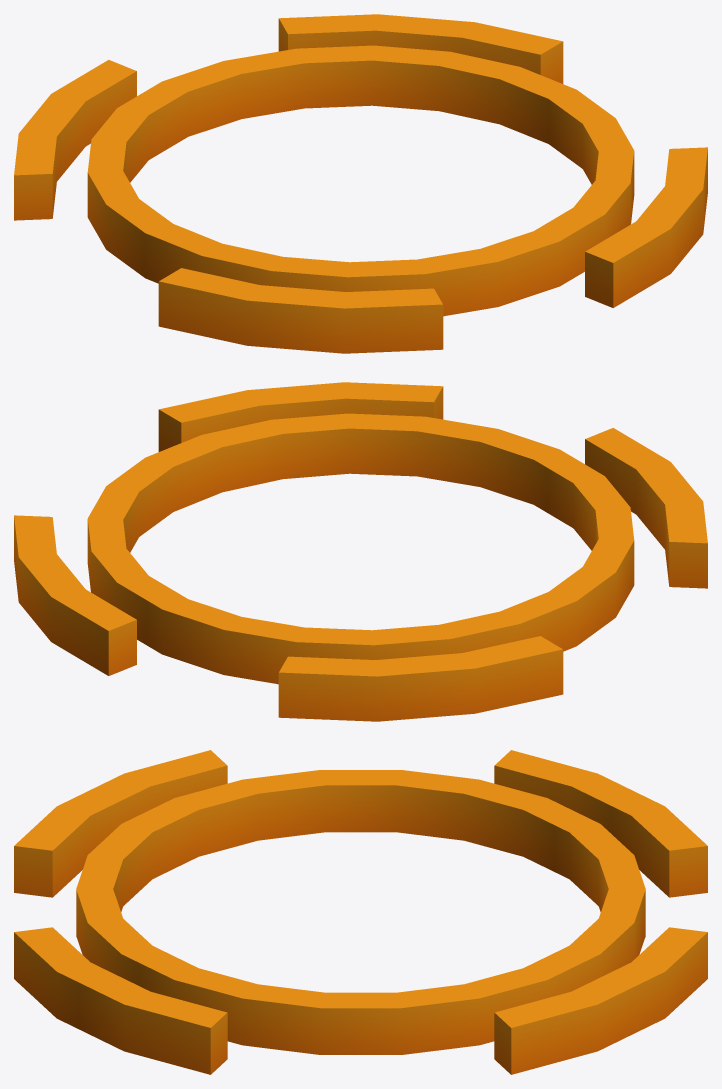
Rendered from Selection_Pointer_03.fbx.
3 views of the same model, one above another, from view 1: azimuth 30°, elevation 25°; view 2: azimuth 150°, elevation 25°; view 3: azimuth 270°, elevation 25° (orthographic). The views are drawn at different scales.
Parts seen in each view (by area): view 1: Selection_Pointer_03; view 2: Selection_Pointer_03; view 3: Selection_Pointer_03.
Part boxes in pixels (x1,y1,x2,y2): Selection_Pointer_03: [14, 14, 707, 353]; Selection_Pointer_03: [14, 382, 707, 721]; Selection_Pointer_03: [14, 750, 707, 1074].
Bounding box in the file's own units: 99.64 × 7.84 × 105.
